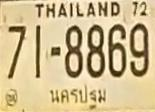1: (35, 25, 41, 79)
6: (107, 24, 126, 76)
7: (7, 25, 26, 78)
8: (86, 24, 104, 77), (64, 24, 82, 77)
9: (129, 23, 148, 76)
NPT: (45, 84, 109, 105)
